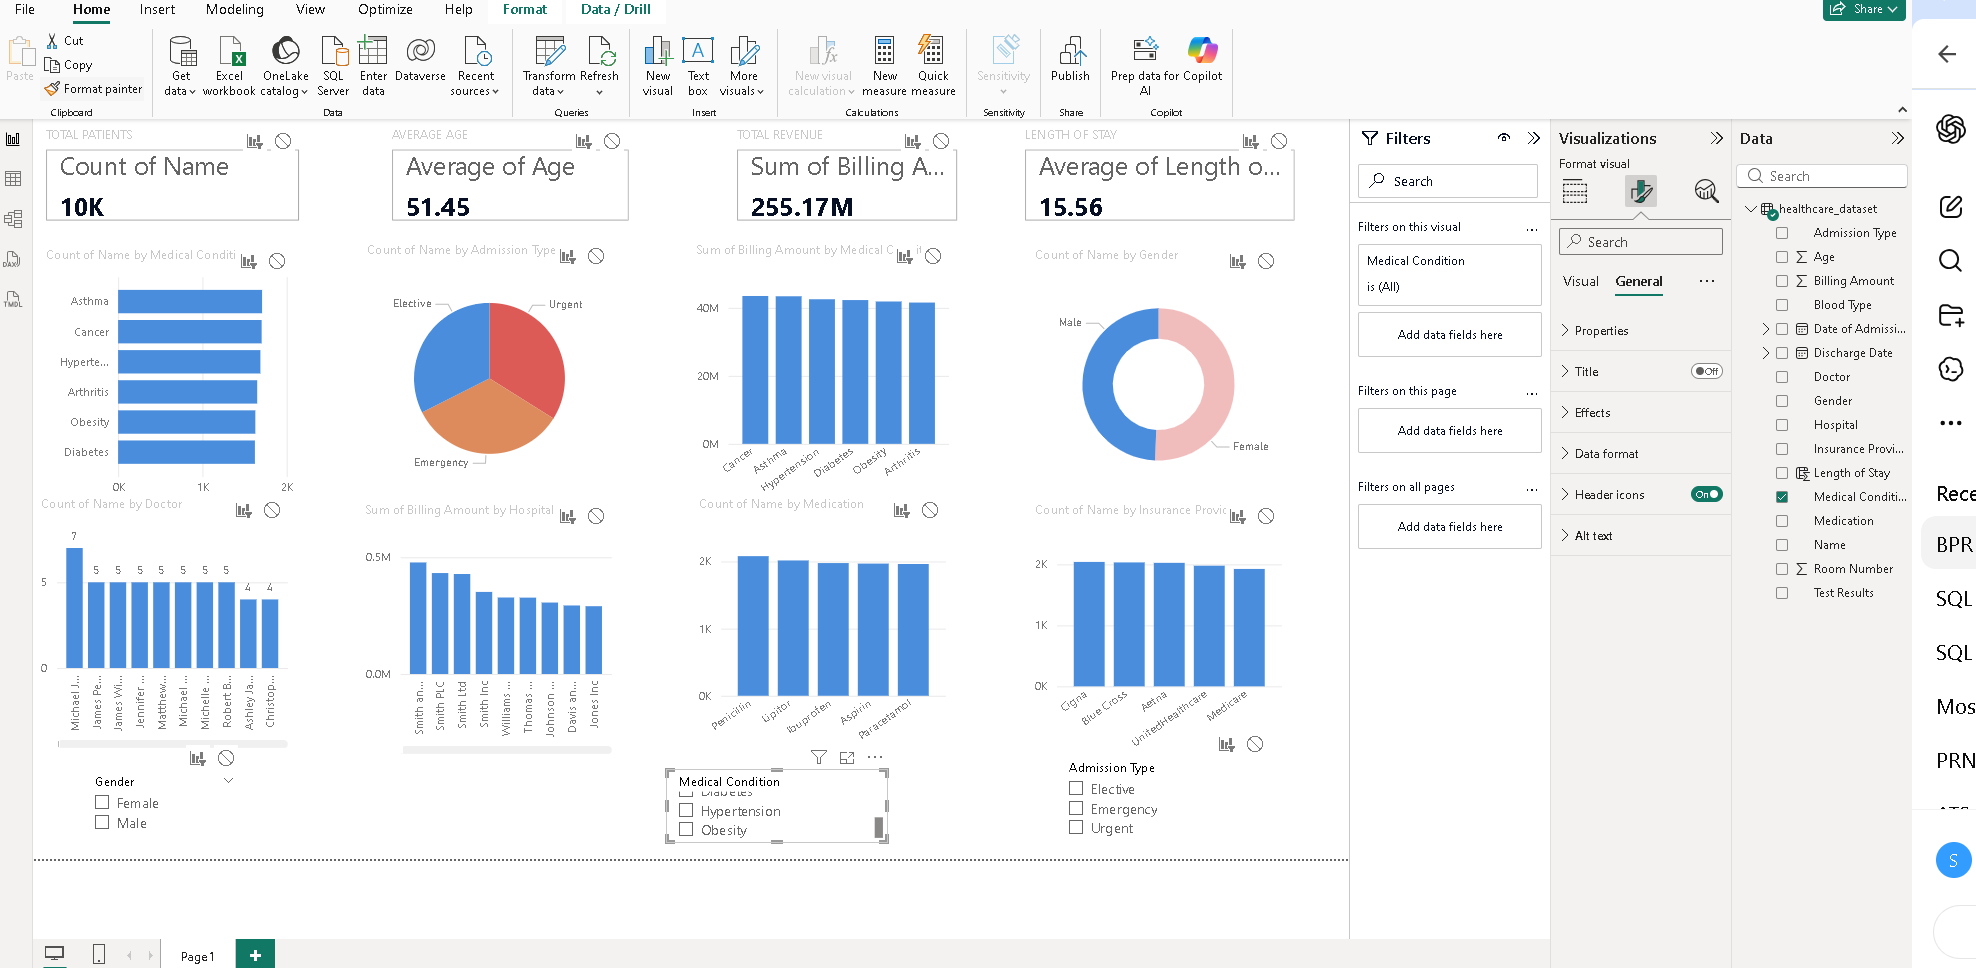

What the dashboard file says about the page in this screenshot:
{"tool":"powerbi","page":{"name":"Page 1","canvas":[1280,720],"ordinal":0},"visuals":[{"type":"cardVisual","title":"TOTAL PATIENTS","fields":{"Data":["CountNonNull(healthcare_dataset.Name)"]},"box":[8,8,256,96],"z":0},{"type":"cardVisual","title":"AVERAGE AGE","fields":{"Data":["Avg(healthcare_dataset.Age)"]},"box":[344,8,240,96],"z":1000},{"type":"cardVisual","title":"TOTAL REVENUE","fields":{"Data":["Sum(healthcare_dataset.Billing Amount)"]},"box":[680,8,224,96],"z":2000},{"type":"cardVisual","title":"LENGTH OF STAY","fields":{"Data":["Avg(healthcare_dataset.Length of Stay)"]},"box":[960,8,272,96],"z":3000},{"type":"clusteredBarChart","fields":{"Y":["CountNonNull(healthcare_dataset.Name)"],"Category":["healthcare_dataset.Medical Condition"]},"box":[7.6,124.4,250,250],"z":4000},{"type":"pieChart","fields":{"Category":["healthcare_dataset.Admission Type"],"Y":["CountNonNull(healthcare_dataset.Name)"]},"box":[320,120,248,248],"z":5000},{"type":"clusteredColumnChart","fields":{"Category":["healthcare_dataset.Medical Condition"],"Y":["Sum(healthcare_dataset.Billing Amount)"]},"box":[640,120,256,256],"z":6000},{"type":"donutChart","fields":{"Y":["CountNonNull(healthcare_dataset.Name)"],"Category":["healthcare_dataset.Gender"]},"box":[969.5,124.4,250,250],"z":7000},{"type":"clusteredColumnChart","fields":{"Category":["healthcare_dataset.Doctor"],"Y":["CountNonNull(healthcare_dataset.Name)"]},"box":[2.7,366.5,250,250],"z":8000},{"type":"clusteredColumnChart","fields":{"Category":["healthcare_dataset.Hospital"],"Y":["Sum(healthcare_dataset.Billing Amount)"]},"box":[317.8,372.4,250,250],"z":9000},{"type":"clusteredColumnChart","fields":{"Category":["healthcare_dataset.Medication"],"Y":["CountNonNull(healthcare_dataset.Name)"]},"box":[642.7,366.5,250,250],"z":10000},{"type":"clusteredColumnChart","fields":{"Category":["healthcare_dataset.Insurance Provider"],"Y":["CountNonNull(healthcare_dataset.Name)"]},"box":[969.5,372.4,250,250],"z":11000},{"type":"slicer","fields":{"Values":["healthcare_dataset.Gender"]},"box":[48,632,160,80],"z":12000},{"type":"slicer","fields":{"Values":["healthcare_dataset.Medical Condition"]},"box":[616,632,216,72],"z":13000},{"type":"slicer","fields":{"Values":["healthcare_dataset.Admission Type"]},"box":[995,618.6,214,88.5],"z":14000}]}

Visuals, with their boxes on the page's 1280x720 design canvas (x1, y1, x2, y2). These are canvas units, not pixel positions in the 1976x968 screenshot, which may show the page scaled, cropped or inside an application window:
"TOTAL PATIENTS" cardVisual: x1=8 y1=8 x2=264 y2=104
"AVERAGE AGE" cardVisual: x1=344 y1=8 x2=584 y2=104
"TOTAL REVENUE" cardVisual: x1=680 y1=8 x2=904 y2=104
"LENGTH OF STAY" cardVisual: x1=960 y1=8 x2=1232 y2=104
clusteredBarChart - CountNonNull(healthcare_dataset.Name) x healthcare_dataset.Medical Condition: x1=8 y1=124 x2=258 y2=374
pieChart - healthcare_dataset.Admission Type x CountNonNull(healthcare_dataset.Name): x1=320 y1=120 x2=568 y2=368
clusteredColumnChart - healthcare_dataset.Medical Condition x Sum(healthcare_dataset.Billing Amount): x1=640 y1=120 x2=896 y2=376
donutChart - CountNonNull(healthcare_dataset.Name) x healthcare_dataset.Gender: x1=970 y1=124 x2=1220 y2=374
clusteredColumnChart - healthcare_dataset.Doctor x CountNonNull(healthcare_dataset.Name): x1=3 y1=366 x2=253 y2=616
clusteredColumnChart - healthcare_dataset.Hospital x Sum(healthcare_dataset.Billing Amount): x1=318 y1=372 x2=568 y2=622
clusteredColumnChart - healthcare_dataset.Medication x CountNonNull(healthcare_dataset.Name): x1=643 y1=366 x2=893 y2=616
clusteredColumnChart - healthcare_dataset.Insurance Provider x CountNonNull(healthcare_dataset.Name): x1=970 y1=372 x2=1220 y2=622
slicer - healthcare_dataset.Gender: x1=48 y1=632 x2=208 y2=712
slicer - healthcare_dataset.Medical Condition: x1=616 y1=632 x2=832 y2=704
slicer - healthcare_dataset.Admission Type: x1=995 y1=619 x2=1209 y2=707
